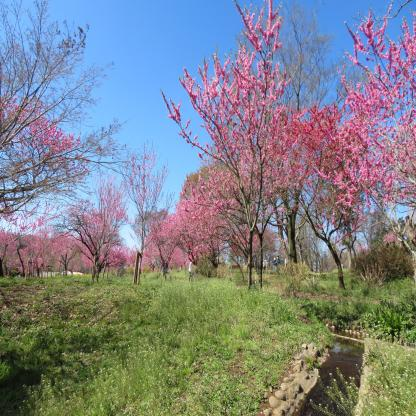Momo: (159, 0, 308, 274), (0, 0, 113, 277), (308, 1, 416, 232), (284, 97, 363, 266), (150, 162, 235, 261), (114, 140, 174, 237), (67, 186, 131, 266)
